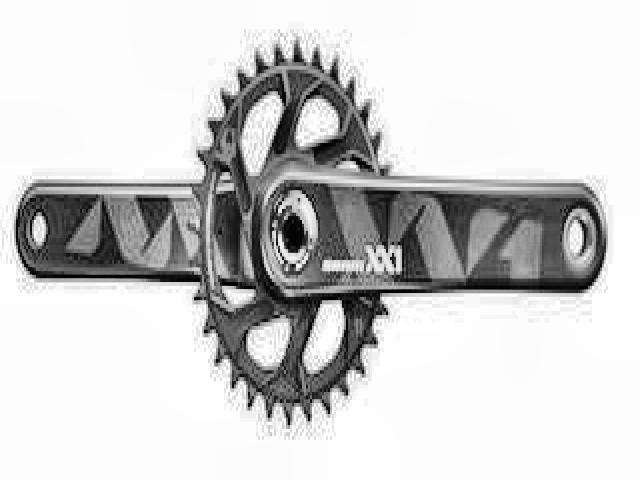cranks_set: (189, 35, 608, 426)
